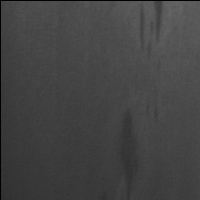inclusion: (113, 104, 148, 200), (134, 1, 166, 68)
